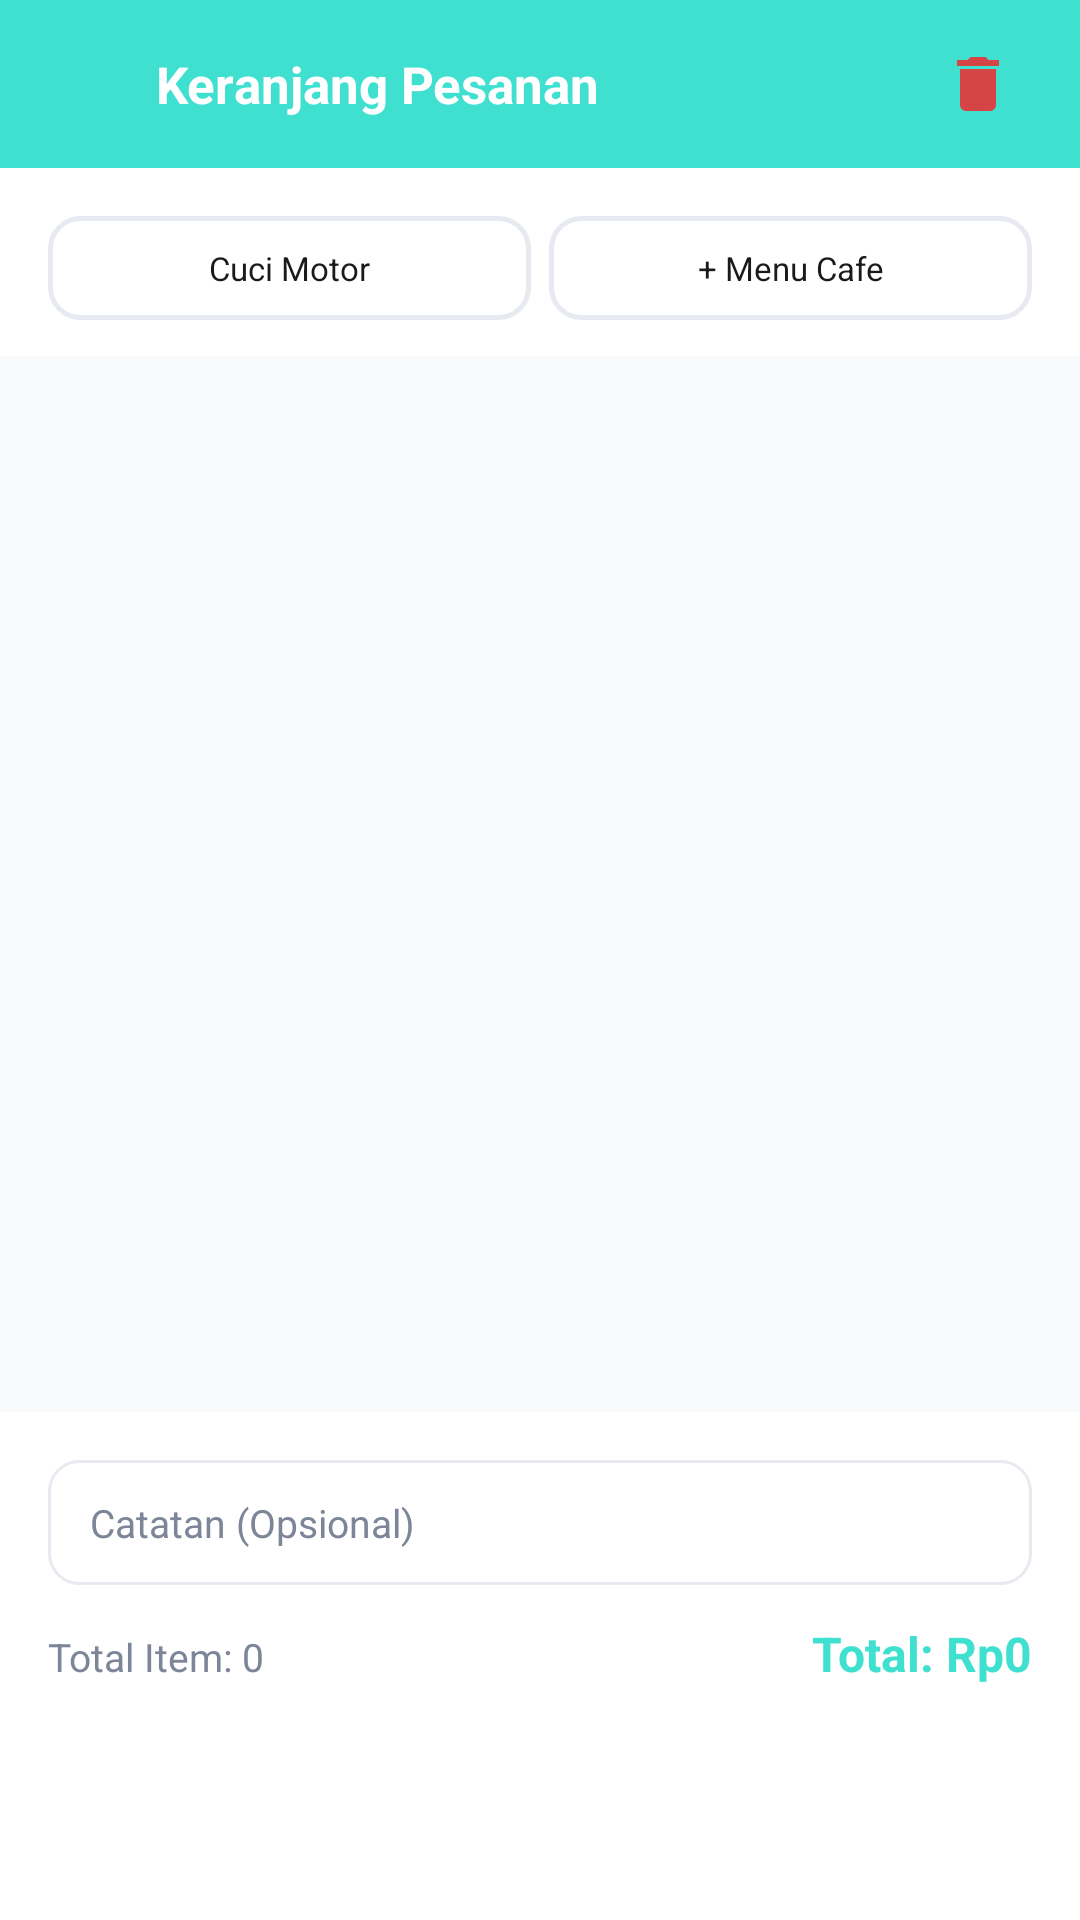

Icons on this 1080 x 1920 Android screen, each with its box as bbox=(x1, y1, x2, y2):
Delete: bbox=(957, 57, 999, 111)
